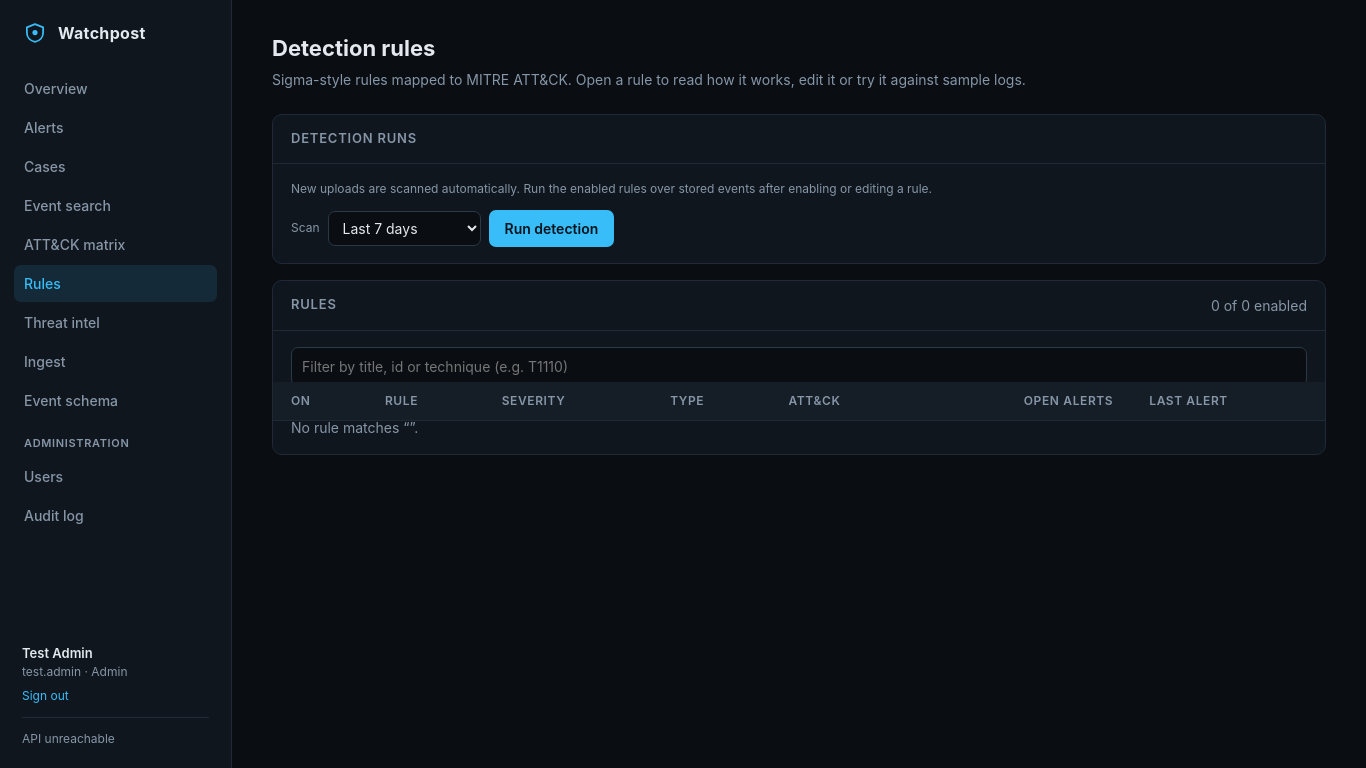
it: RulesPage › shows why a detection run could not start
The image size is (1366, 768).
Click the button "Run detection" at (551, 228), box left=488, top=210, right=614, bottom=246
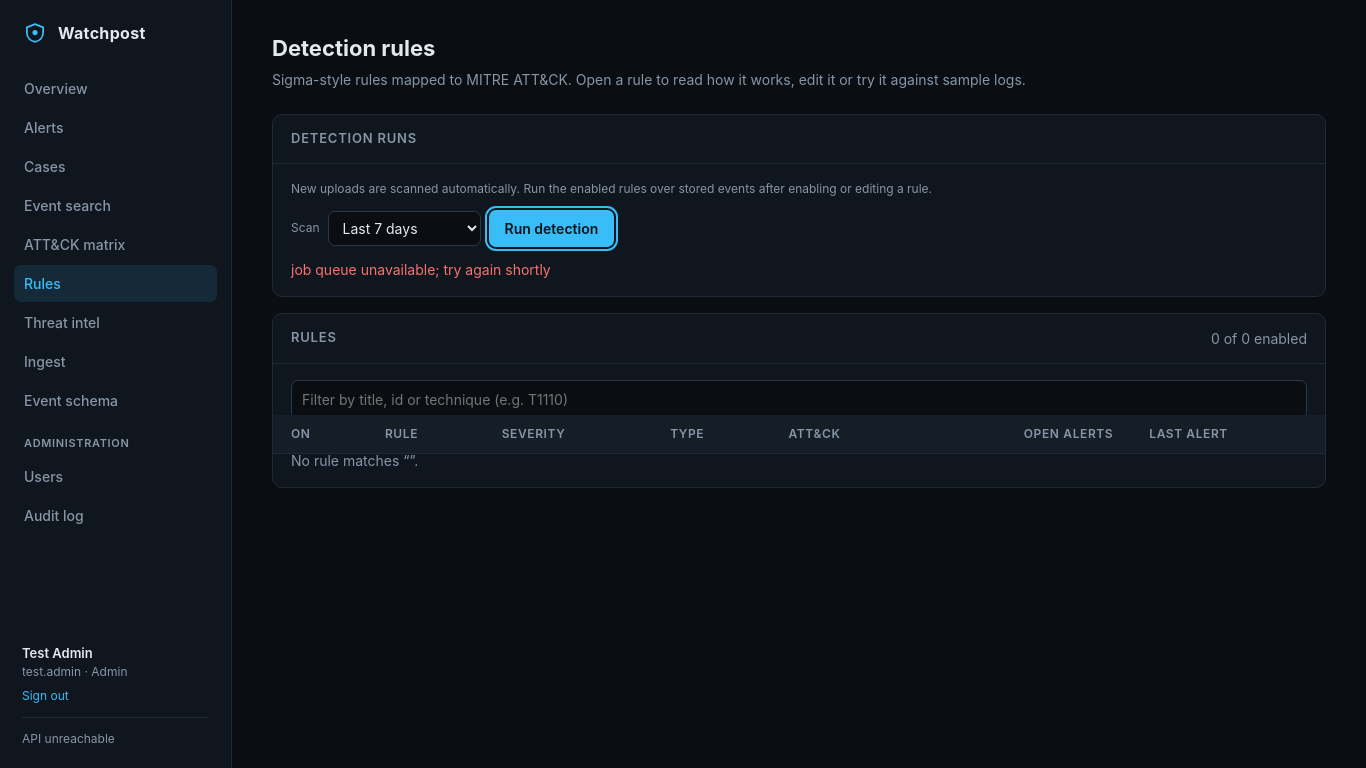
Expected: the message shows "job queue unavailable", left=291, top=260, right=551, bottom=278
